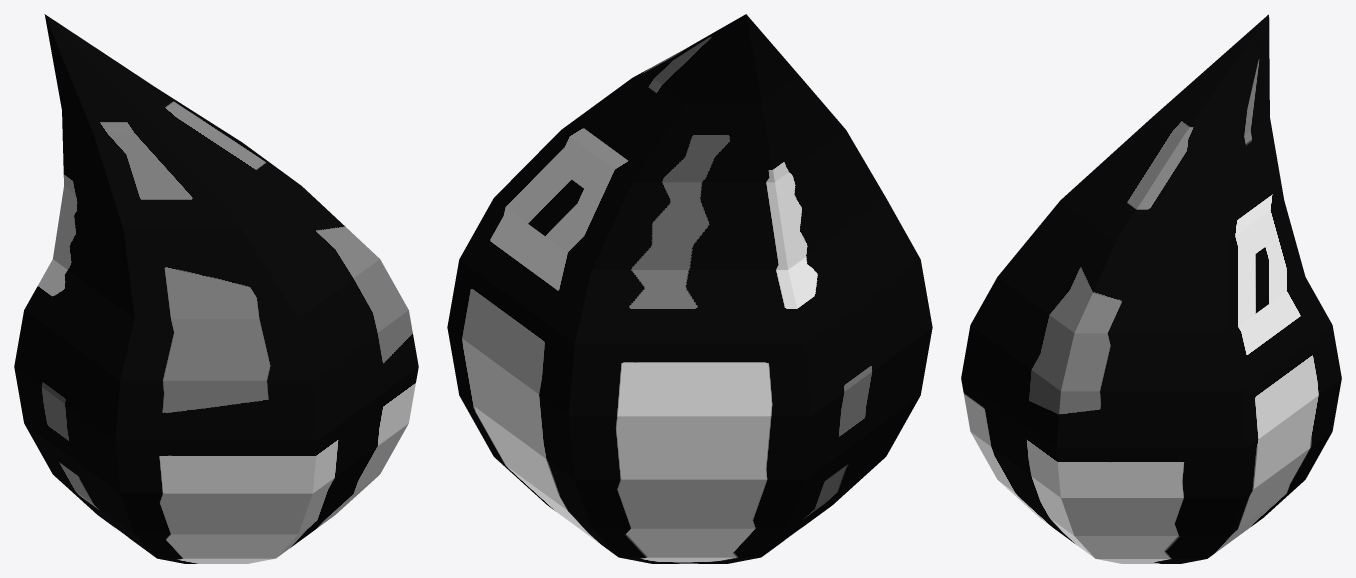
File: paint.gltf
The picture shows the model from 3 angles, left to right: view 1: azimuth 30°, elevation 25°; view 2: azimuth 150°, elevation 25°; view 3: azimuth 270°, elevation 25°; orthographic projection. The views are drawn at different scales.
Parts seen in each view (by area): view 1: Cube; view 2: Cube; view 3: Cube.
Part boxes in pixels (x1,y1,x2,y2): Cube: (14,14,418,563); Cube: (447,14,932,563); Cube: (961,14,1341,563).
Size of the model in its own units: 1.73 by 2.82 by 2.
Materials: 1 (1 with a texture image).
